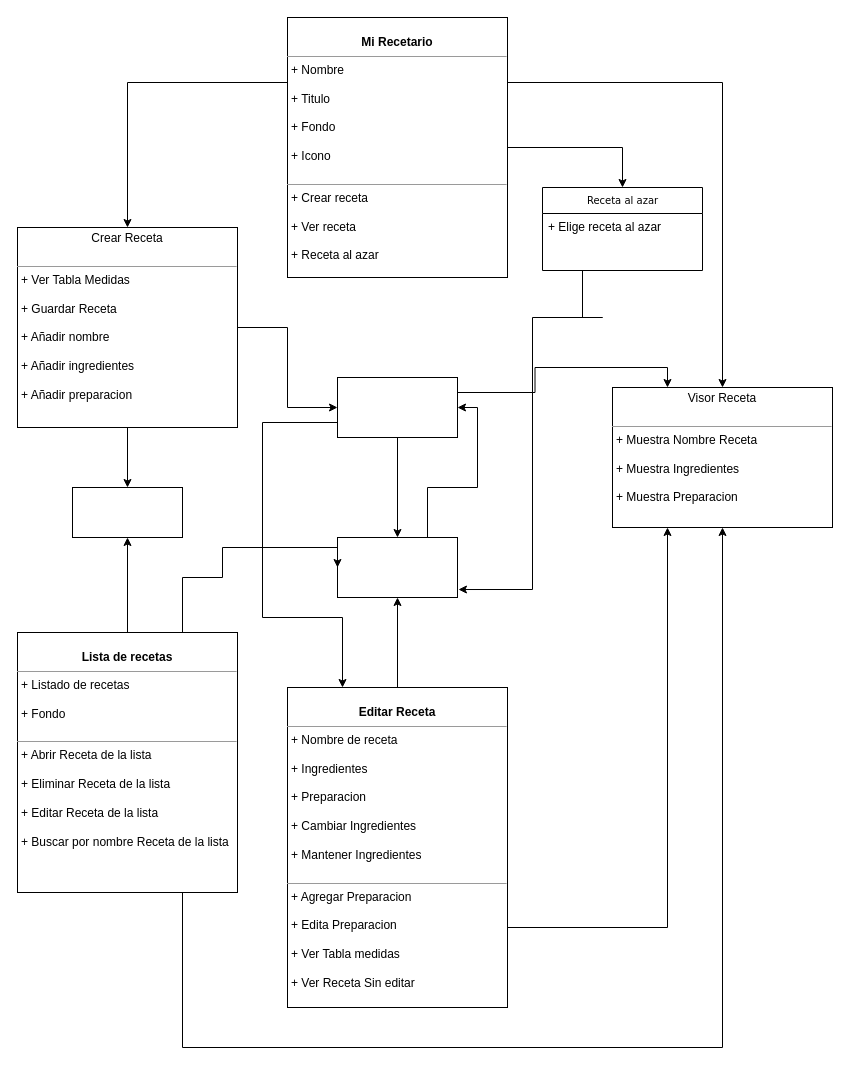
Some shapes in this 850 by 1073 pixel diagram are drawn without their labels. The centre of each missing label's shape, as x and y in pixels:
"Archivo con recetas" goes at [397,567].
"Receta" goes at [397,407].
"Tabla de Medidas" goes at [127,512].
